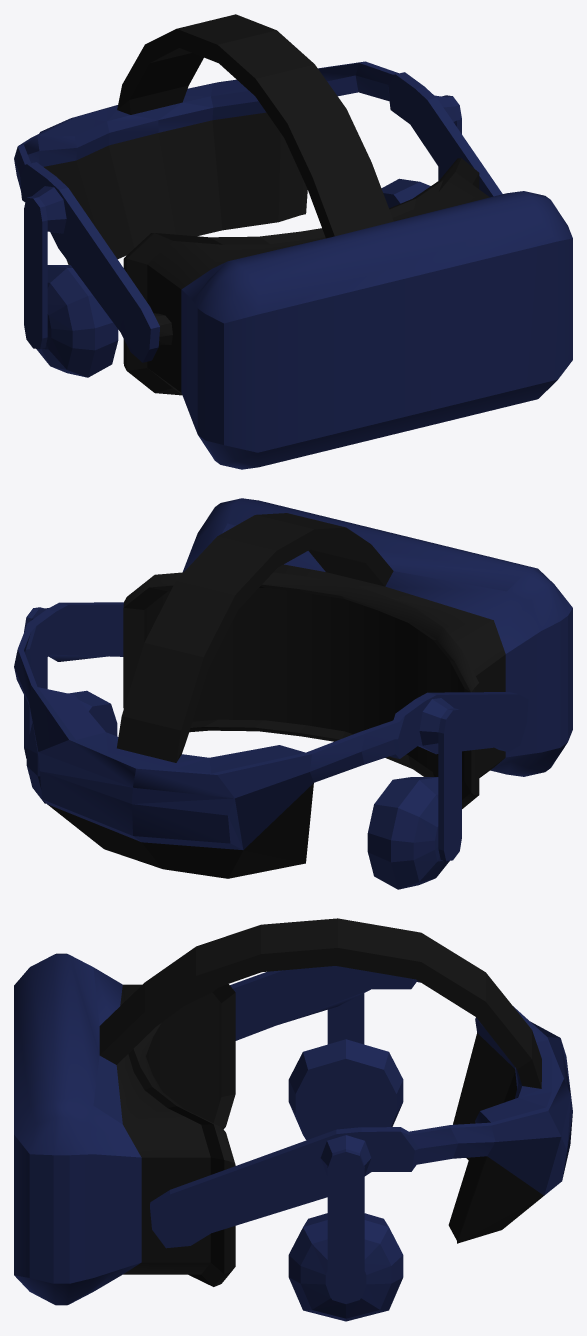
The model's file is VR_Headset.fbx.
The picture shows the model from 3 angles, top to bottom: view 1: azimuth 30°, elevation 25°; view 2: azimuth 150°, elevation 25°; view 3: azimuth 270°, elevation 25°; orthographic projection.
Visible parts, largest first — view 1: Box001; view 2: Box001; view 3: Box001.
Part boxes in pixels (box(x1,y1,x2,y2)): Box001: box(14, 14, 572, 469); Box001: box(14, 498, 572, 889); Box001: box(14, 918, 572, 1321).
Bounding box in the file's own units: 34.95 × 23.51 × 39.62.
